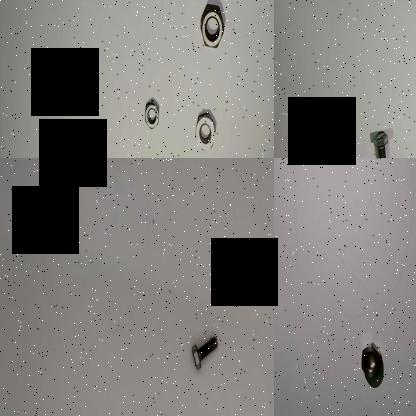Bolts: (187, 326, 217, 378), (369, 126, 390, 158)
NUTS: (196, 2, 226, 50), (359, 336, 384, 384), (193, 110, 217, 154), (142, 98, 161, 132)
